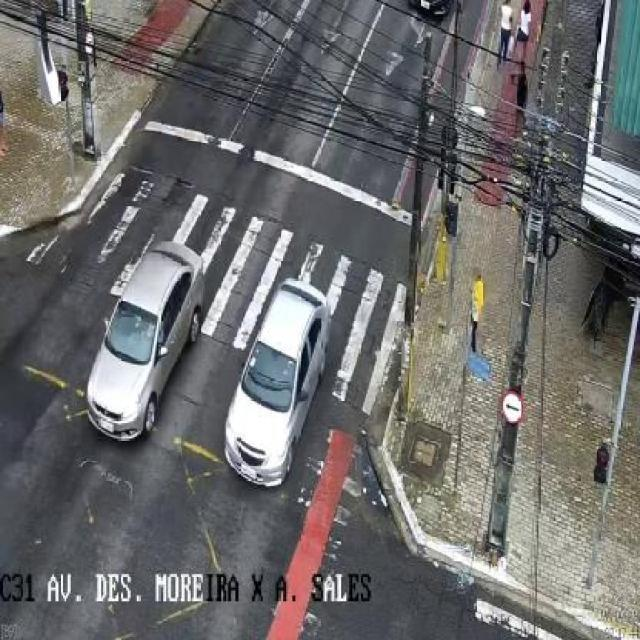Car: (85, 241, 208, 442), (221, 279, 332, 491)
